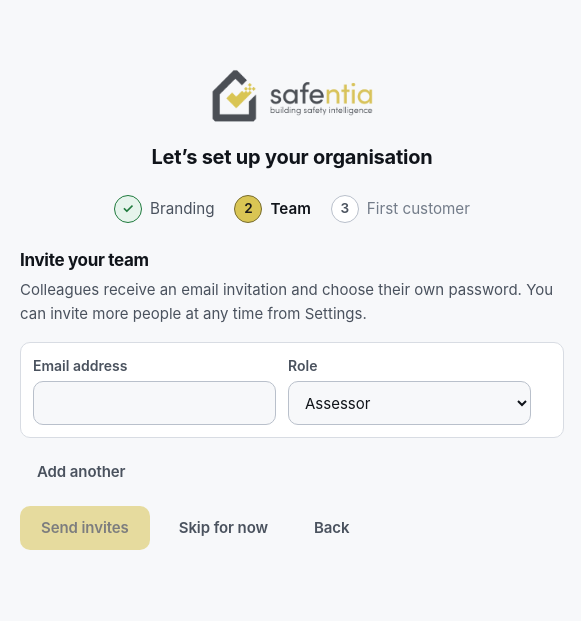
Scenario: SetupWizard › adds and removes invite rows
Step 1. Type "a@example.com" into the field labelled "Email address" → (154, 403), box [33,381,276,425]
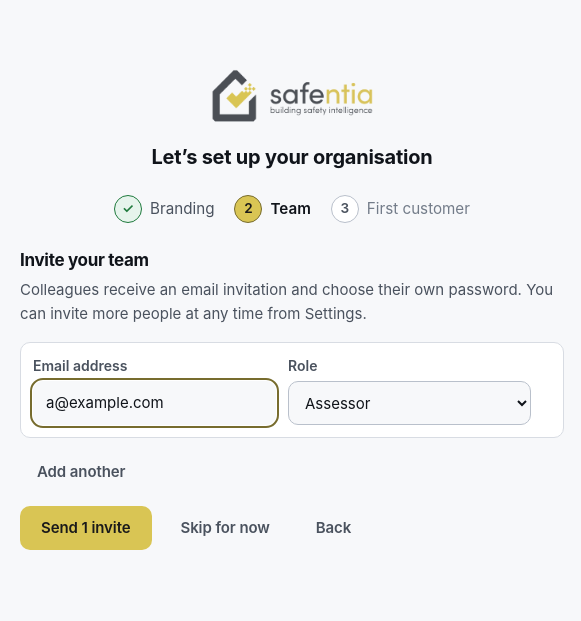
Step 2. Click the button "Add another" → (81, 472), box [20,450,142,494]
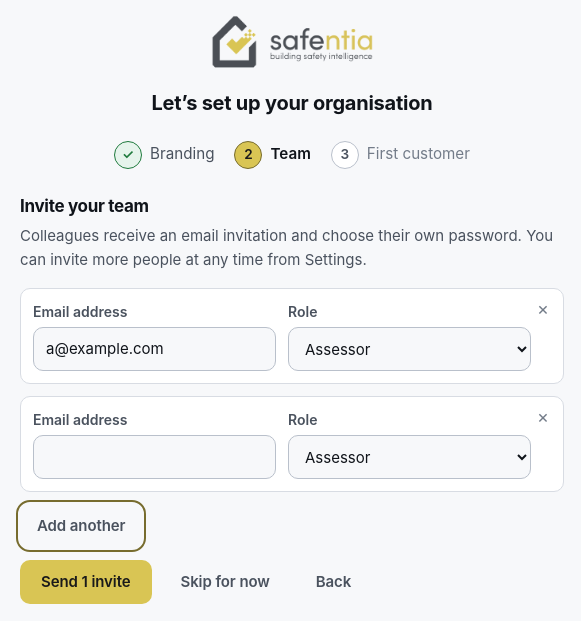
Check: the number of fields labelled "Email address" is 2, box [33,327,276,371]; [33,436,276,480]
Step 3. Click the button named "Remove this row" → (543, 417), box [527,401,559,433]
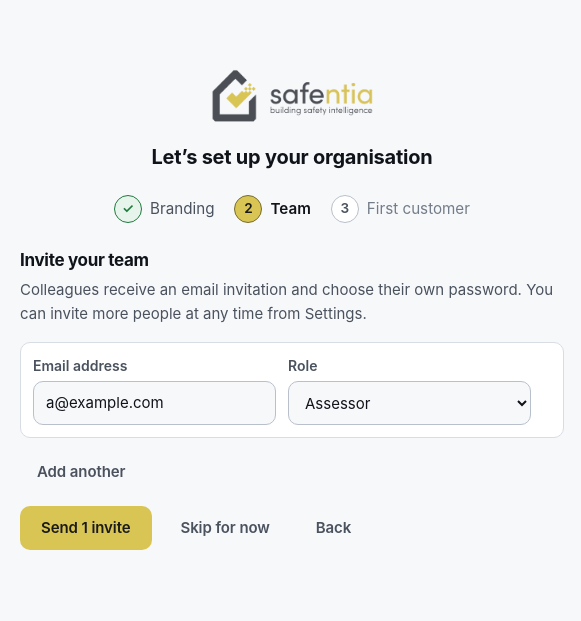
Check: the number of fields labelled "Email address" is 1, box [33,381,276,425]
